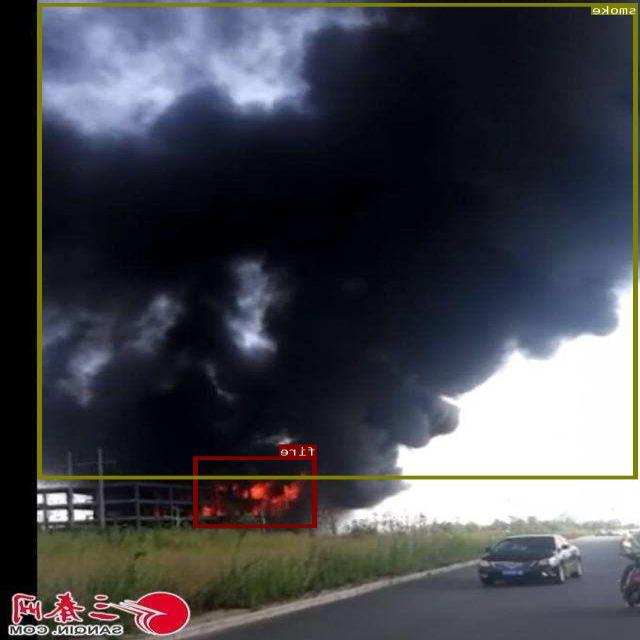fire: (194, 456, 318, 527)
smoke: (38, 2, 638, 478)
